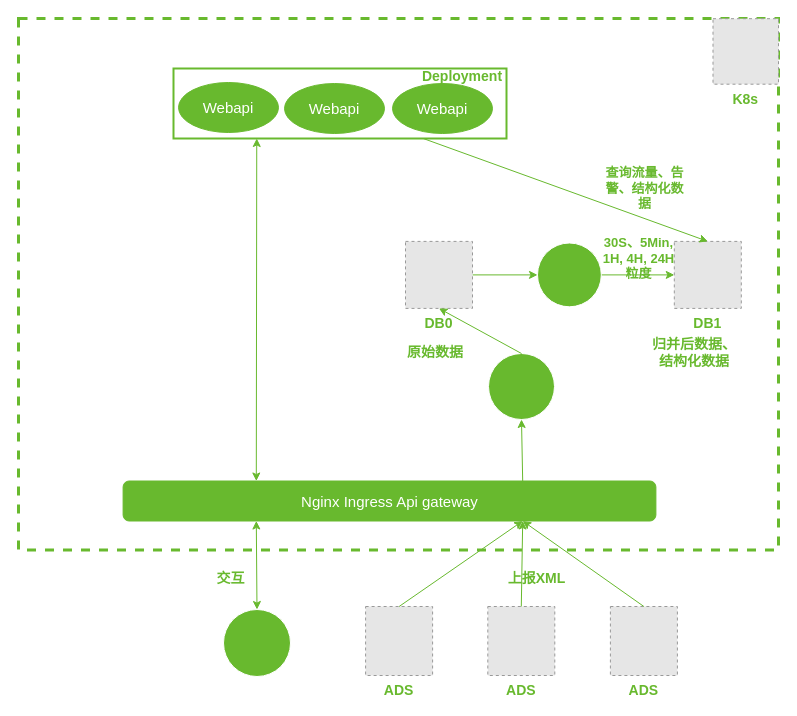
Some shapes in this 797 by 716 pixel diagram are drawn without their labels. Grey dashed boxes stand in for pictures. Each missing label, with the centre of its shape:
"Users" goes at [256,642].
"数据入库" goes at [521,386].
"数据归并" goes at [568,274].
